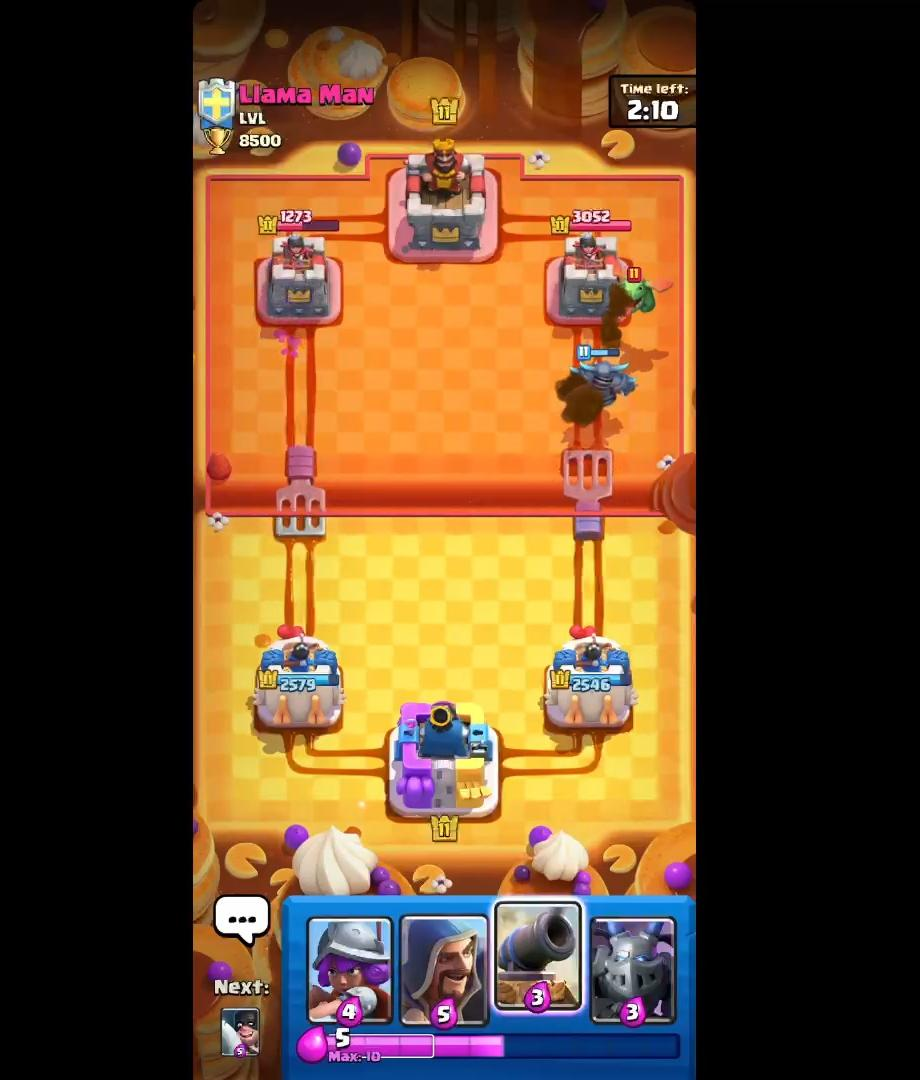Baby Dragon: (610, 254, 677, 339)
